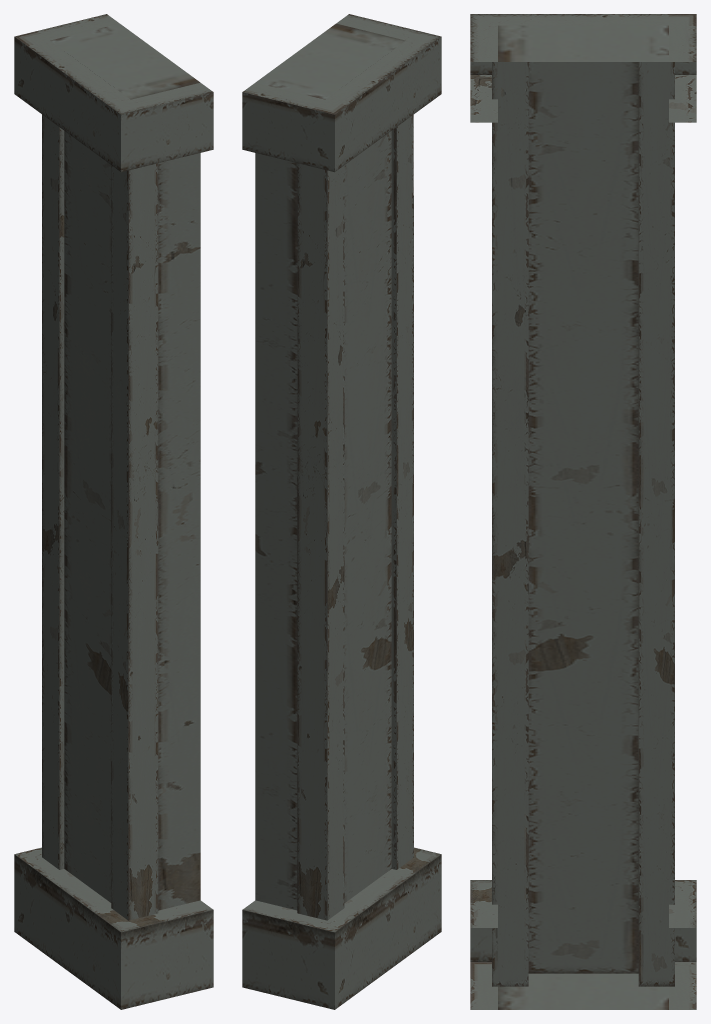
The model's file is SM_ColumnEHalf.FBX.
3 renders of one model, left to right at view 1: azimuth 30°, elevation 25°; view 2: azimuth 150°, elevation 25°; view 3: azimuth 270°, elevation 25°, orthographic. The views are drawn at different scales.
Visible parts, largest first — view 1: SM_ColumnEHalf; view 2: SM_ColumnEHalf; view 3: SM_ColumnEHalf.
Part boxes in pixels (left/top/right/bottom): SM_ColumnEHalf: left=14, top=14, right=213, bottom=1009; SM_ColumnEHalf: left=242, top=14, right=441, bottom=1009; SM_ColumnEHalf: left=470, top=14, right=696, bottom=1009.
Size of the model in its own units: 37.89 by 350 by 75.75.
